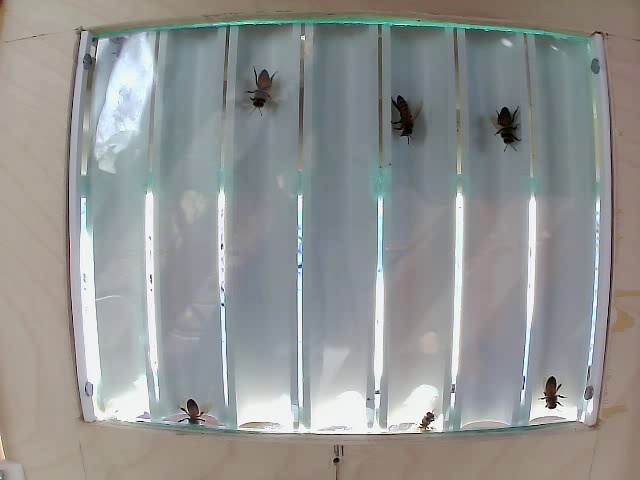bee: (238, 66, 289, 111), (388, 90, 424, 146), (169, 391, 214, 420), (493, 104, 516, 156), (538, 370, 559, 414)
